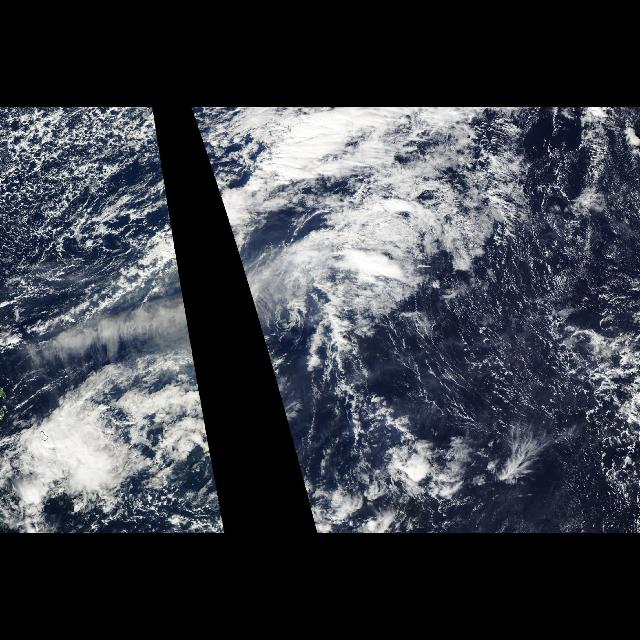Gravel: (470, 210, 640, 508), (0, 108, 170, 306)
Sugar: (10, 118, 121, 248)
